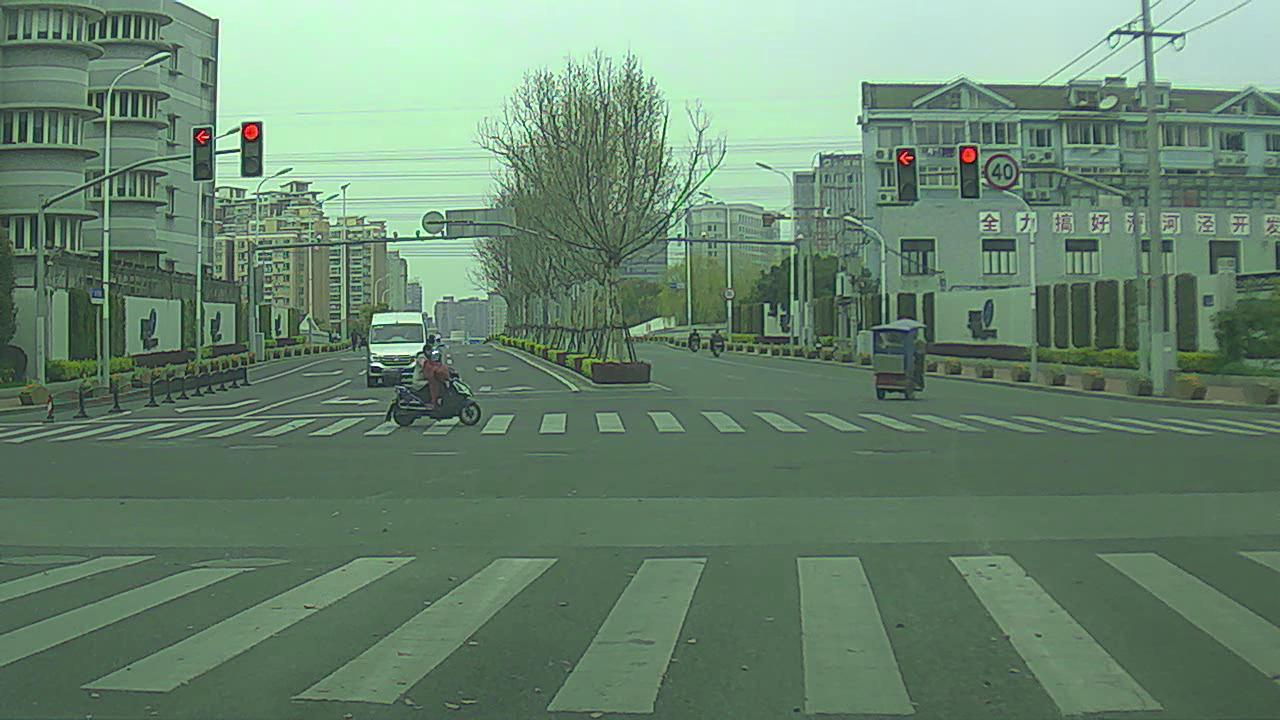traffic_light: (894, 146, 921, 206), (190, 126, 215, 183), (243, 118, 265, 181), (961, 143, 984, 200)
